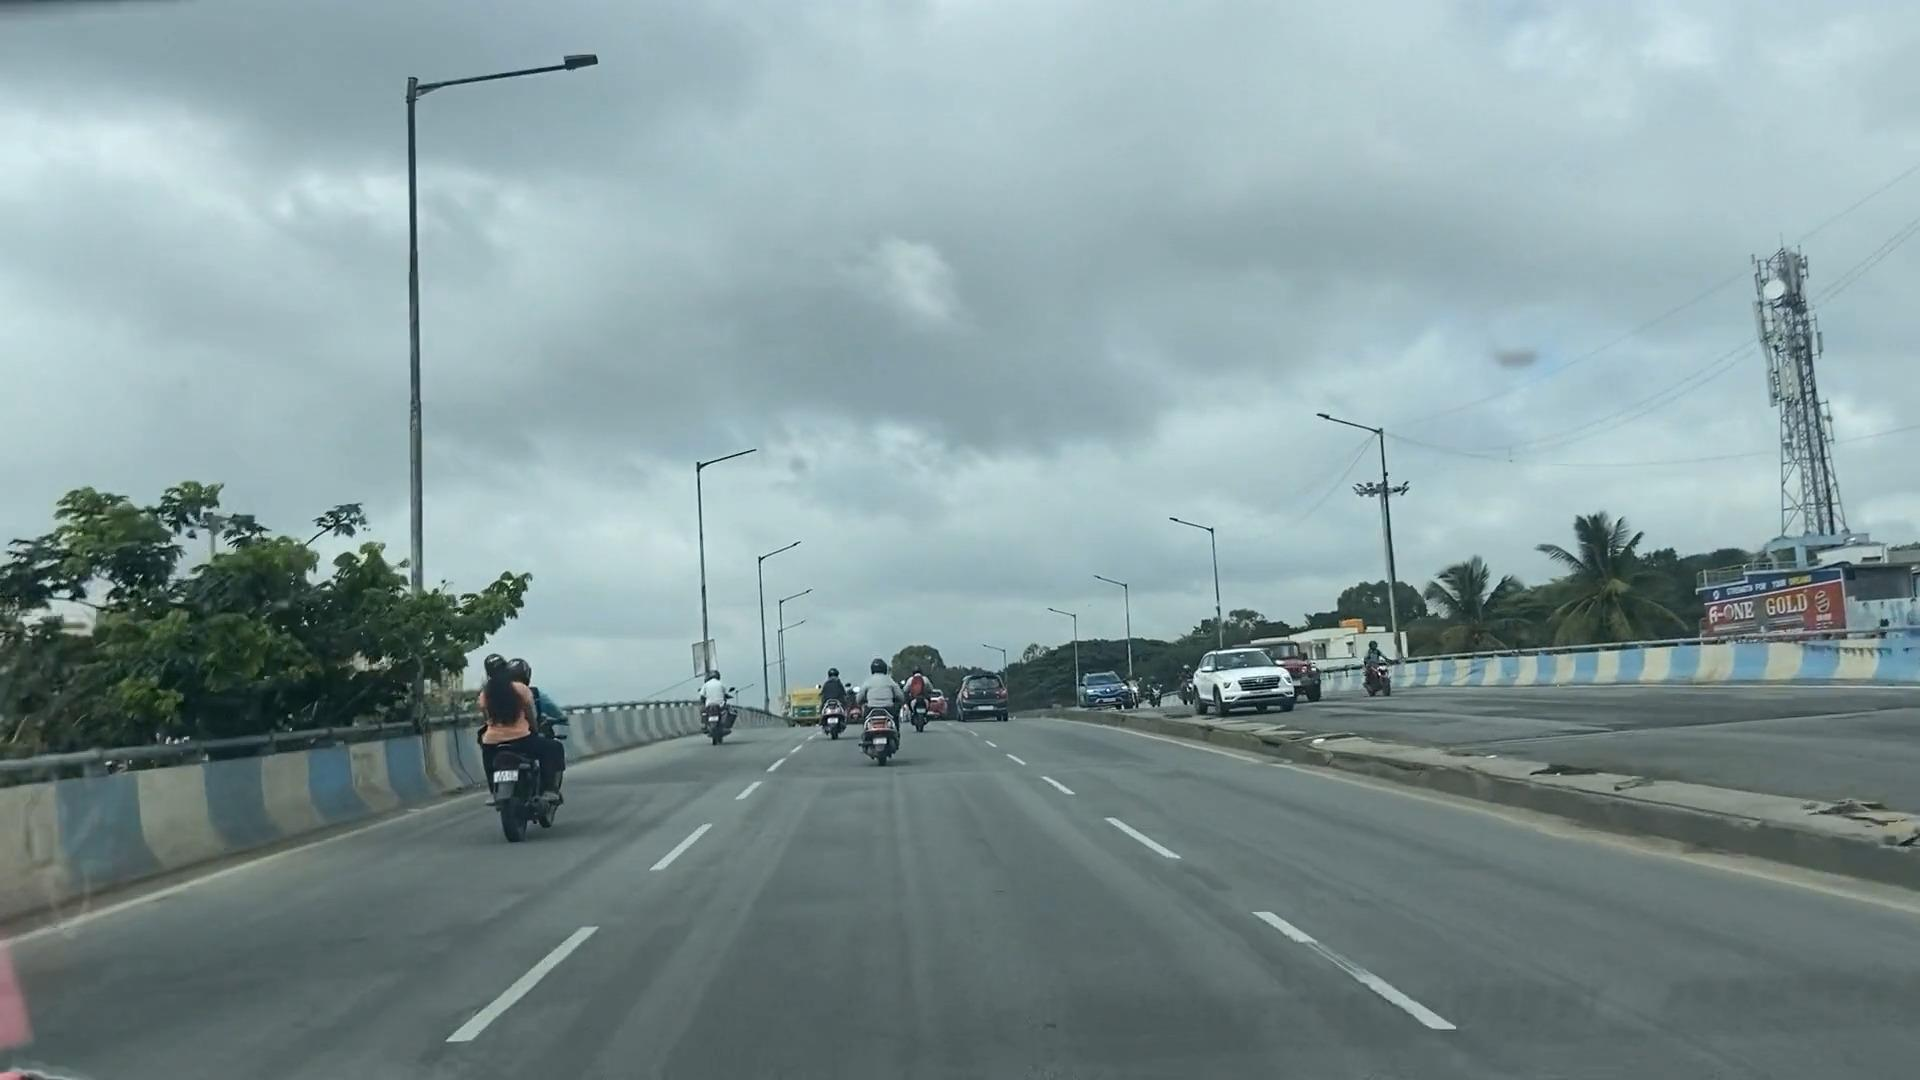LMV: (487, 650, 559, 832), (860, 651, 909, 771), (952, 662, 1010, 733), (698, 673, 745, 740), (816, 666, 847, 740)
